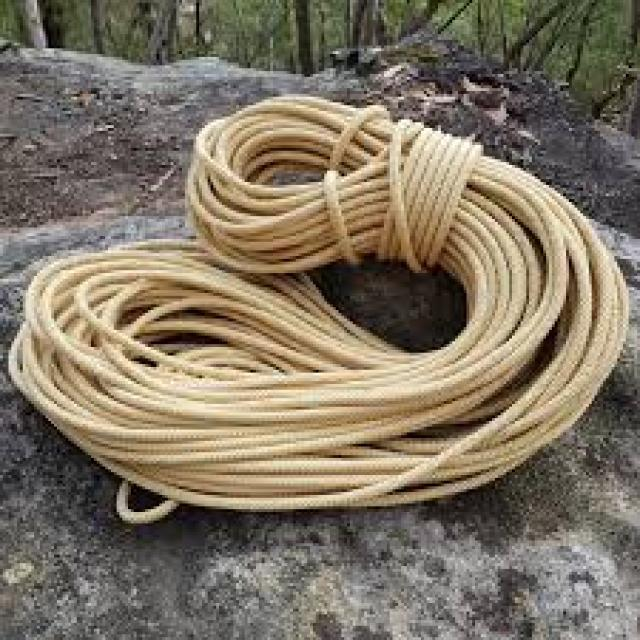rope: (10, 96, 628, 522)
